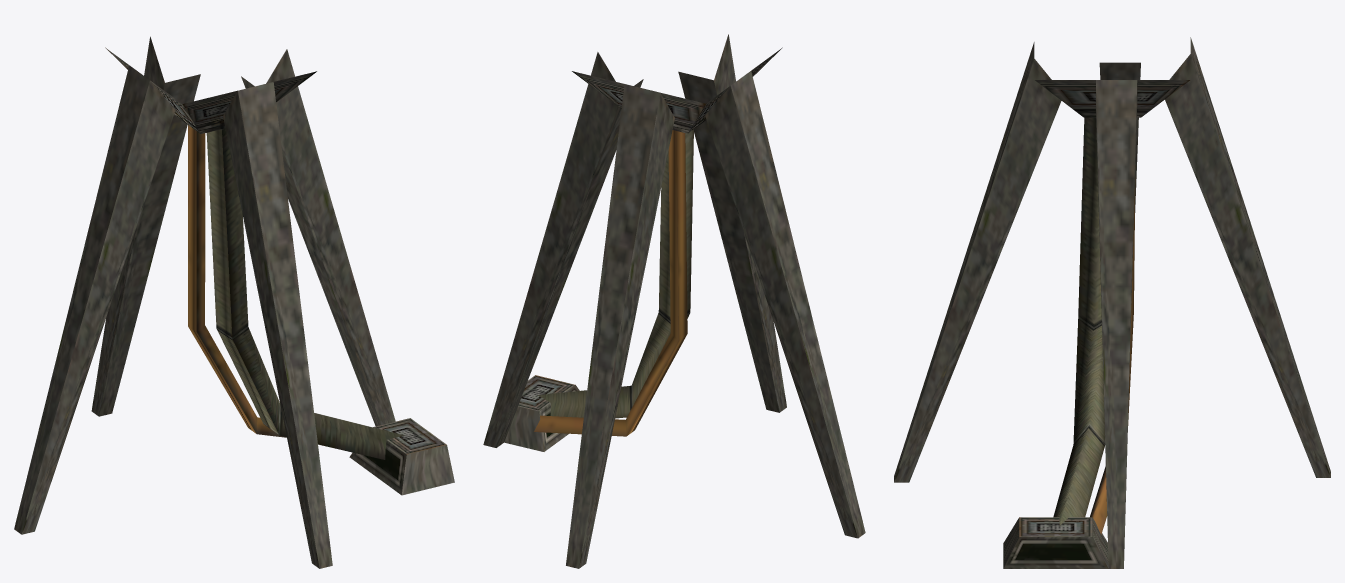
File: M12_LightStand.glb
The picture shows the model from 3 angles, left to right: view 1: azimuth 30°, elevation 25°; view 2: azimuth 150°, elevation 25°; view 3: azimuth 270°, elevation 25°; orthographic projection.
Visible parts, largest first — view 1: M12_LIGHTSTAND; view 2: M12_LIGHTSTAND; view 3: M12_LIGHTSTAND.
Boxes of the visible parts, bbox=[...] form: M12_LIGHTSTAND: bbox=[14, 36, 454, 568]; M12_LIGHTSTAND: bbox=[483, 34, 865, 568]; M12_LIGHTSTAND: bbox=[894, 37, 1330, 568].
Size of the model in its own units: 0.918 by 0.996 by 0.918.
Materials: 1 (1 with a texture image).
